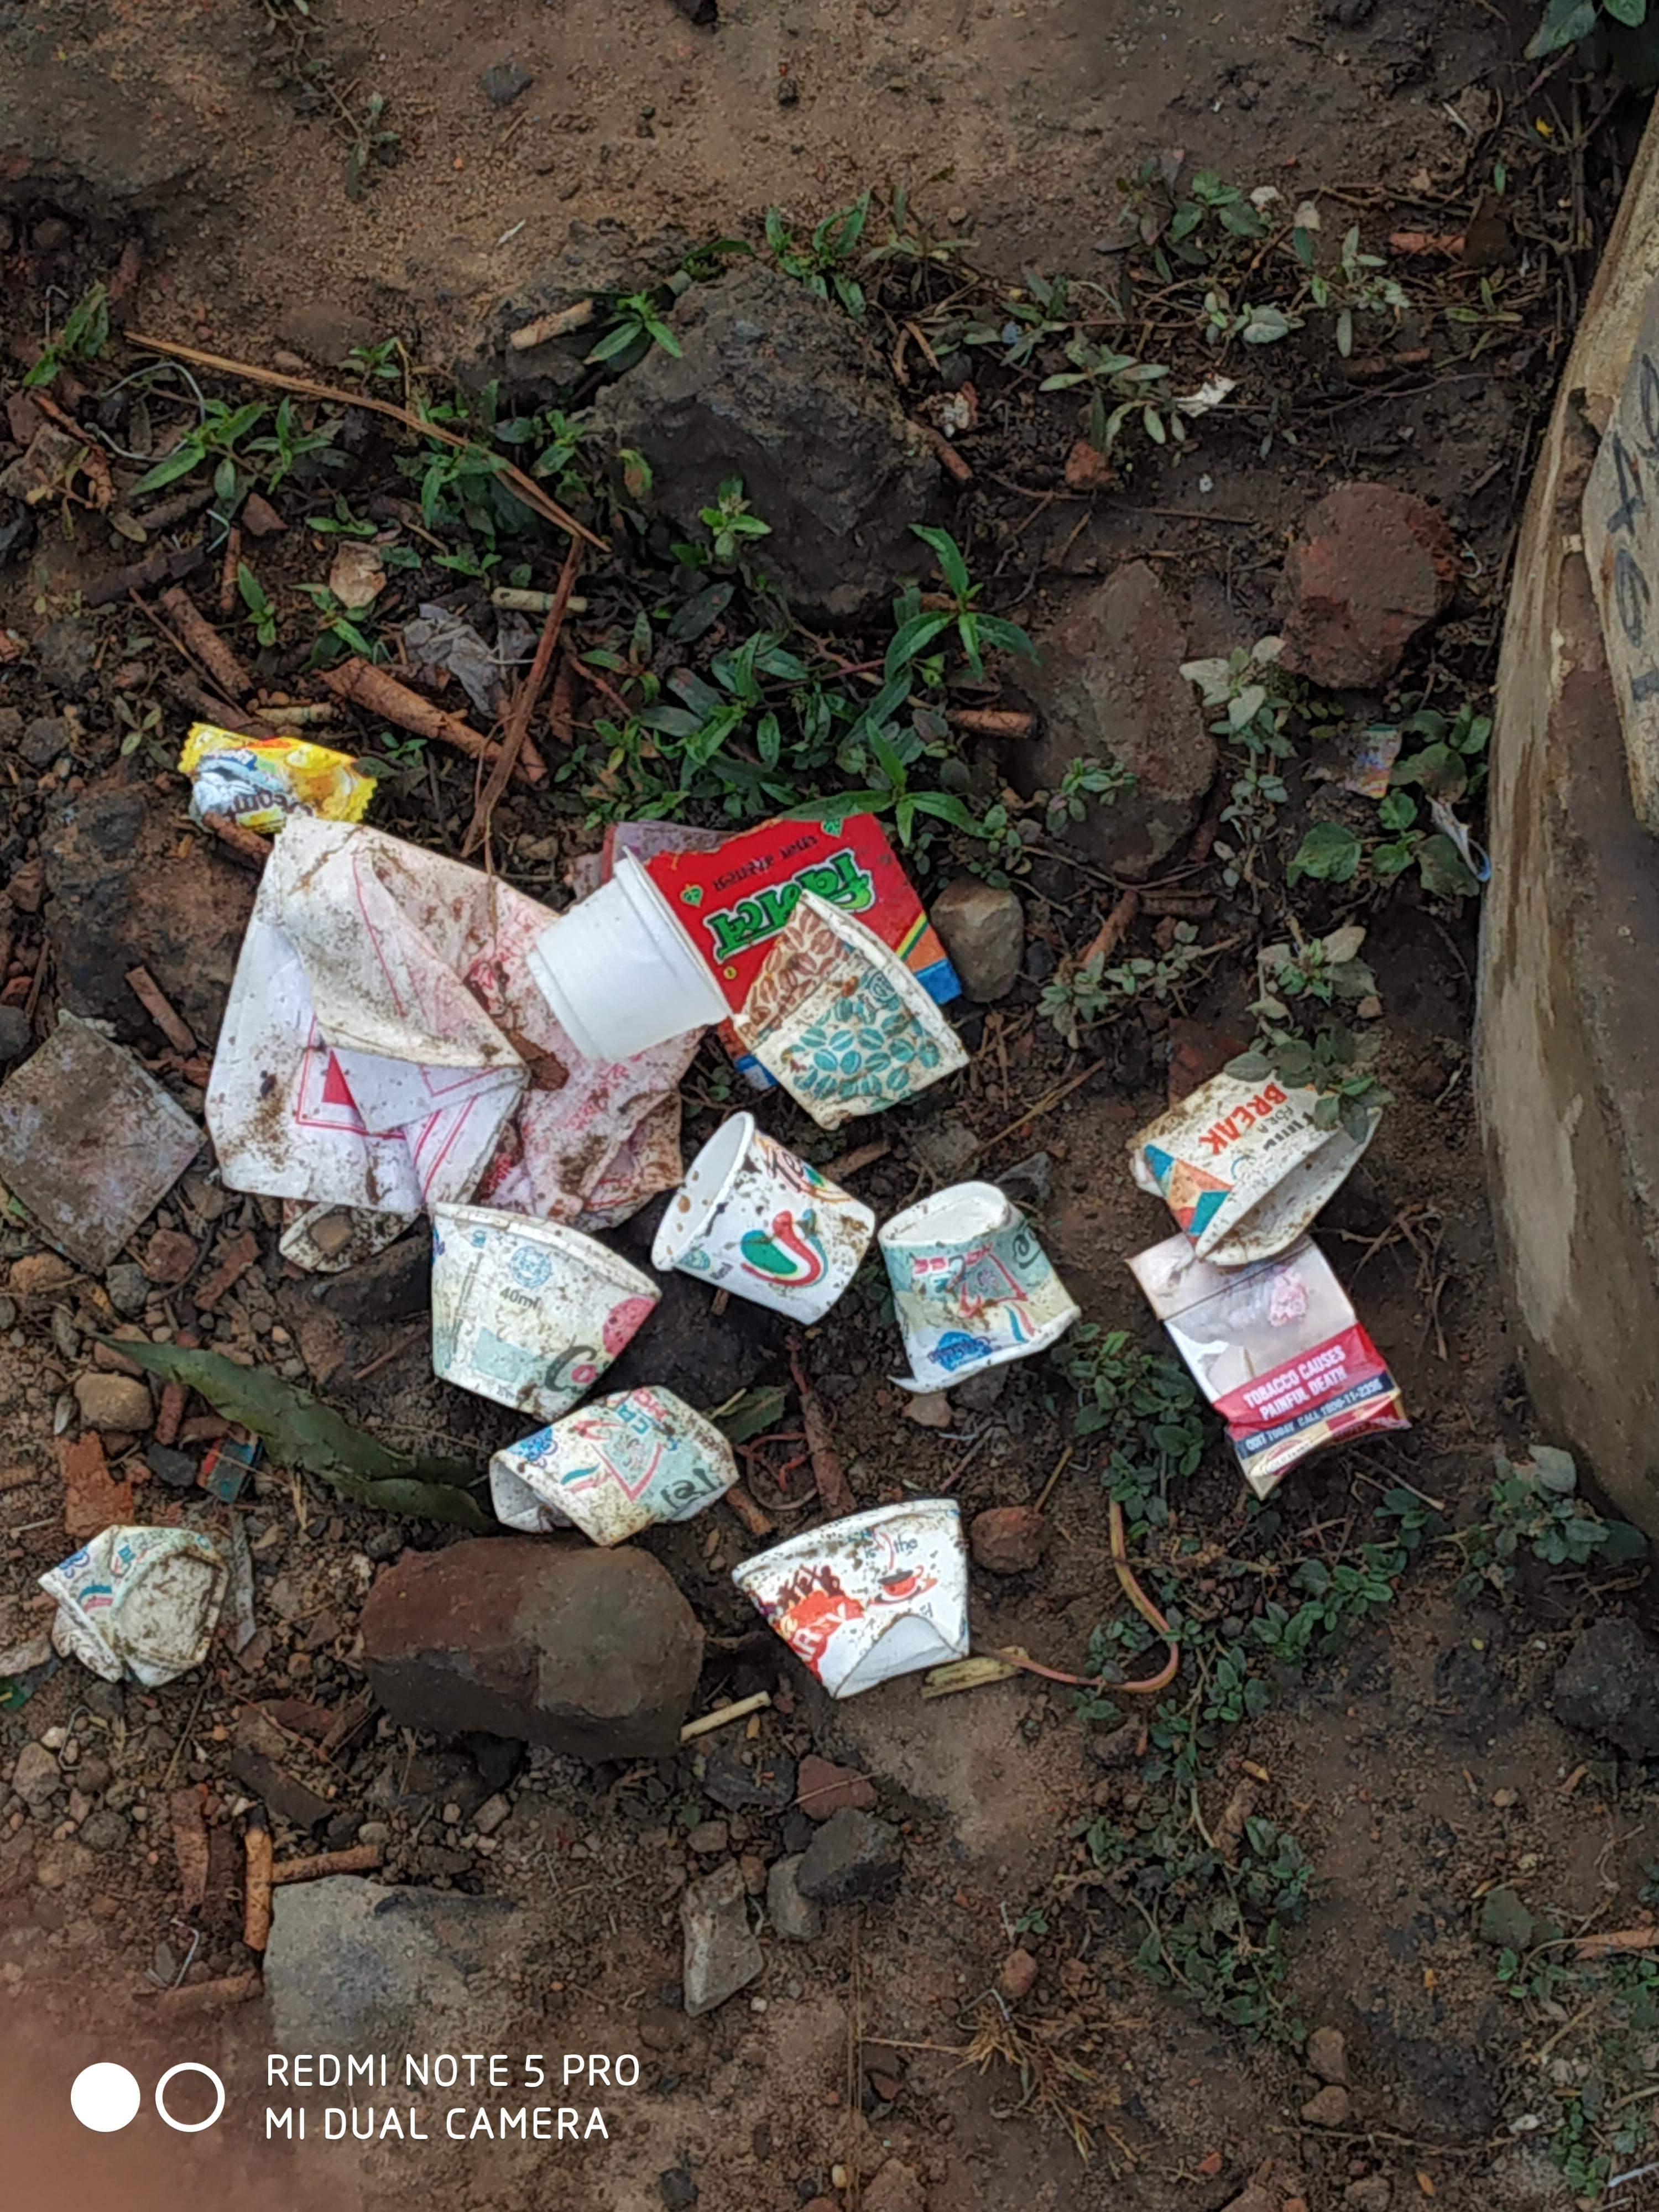trash: (0, 702, 1421, 1712)
